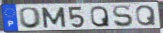5: (67, 5, 87, 28)
M: (40, 7, 68, 29)
O: (18, 6, 44, 29)
Q: (135, 5, 158, 27), (90, 5, 111, 28)
S: (111, 4, 135, 28)
